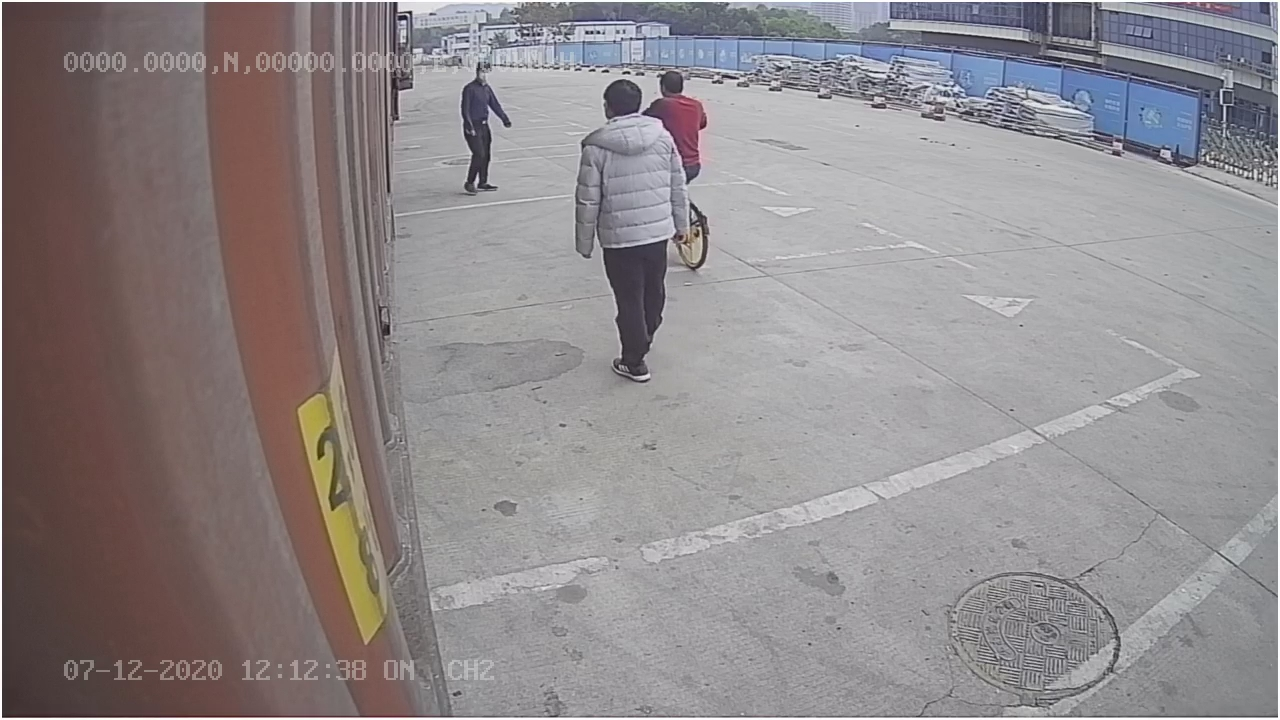person: (569, 75, 695, 384)
